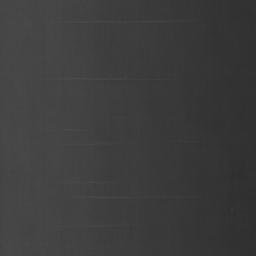Waist folding: (78, 19, 166, 24), (66, 77, 127, 81), (89, 195, 127, 200)
